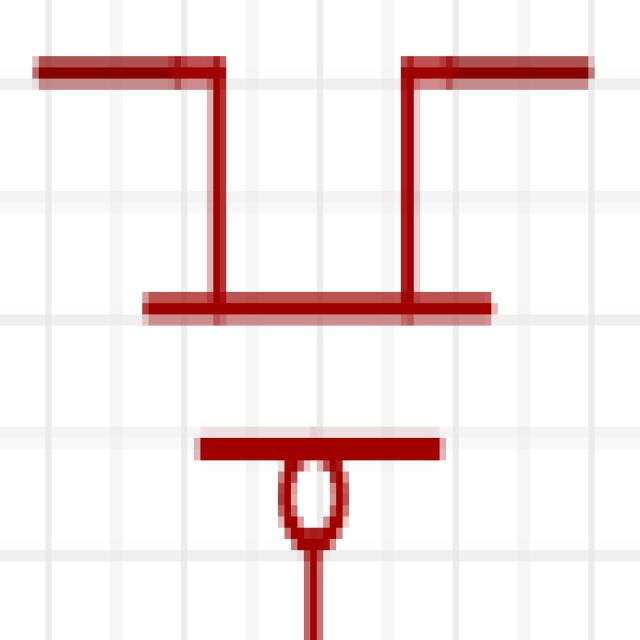pmos: (49, 12, 578, 594)
